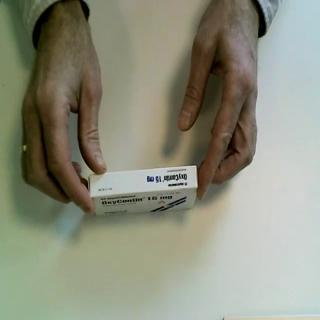oxycontin15mg: (88, 164, 201, 222)
